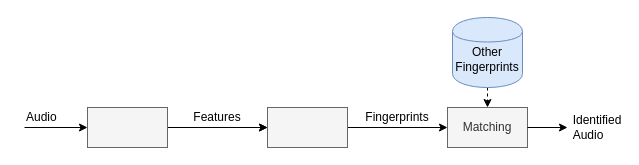
Some shapes in this 639 by 165 pixel diagram are drawn without their labels. Here are the shapes that lost their labels. From the top down, the box of each, then its label:
(86, 106, 168, 148): Feature Extraction
(266, 106, 348, 148): Fingerprint Construction
